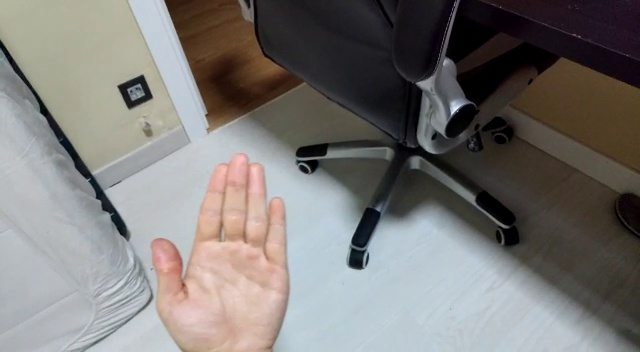Palm: (147, 150, 295, 351)
